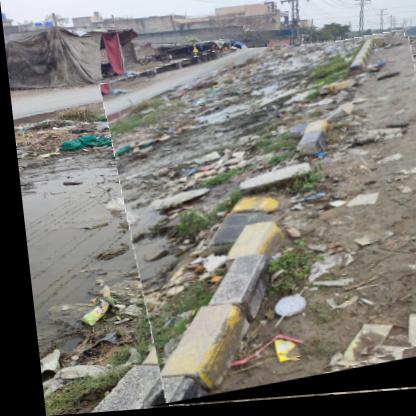Garbage: (103, 42, 416, 411)
